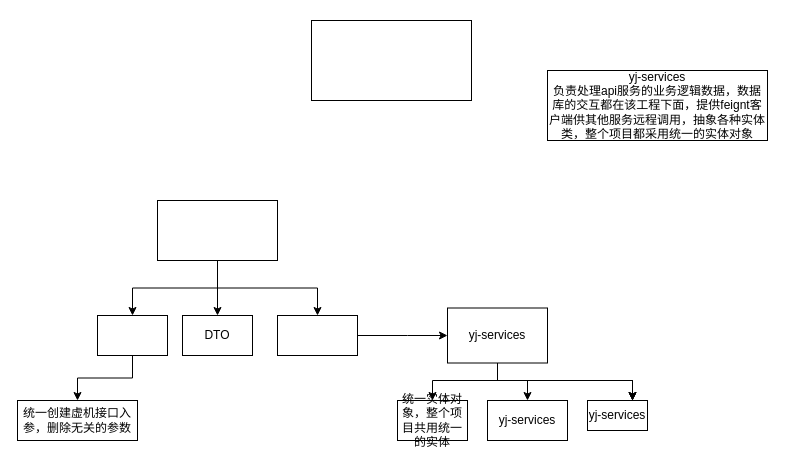
Image size: 785x467. Some labels were removed from this diagram. The shapes that lost their labels are listed below. From the top down, each one's box as (x1, y1, x2, y2) in pixels, then its label:
(310, 20, 472, 100): yj-api-server 提供所有与前端直接交互的rest接口以及各种DTO，涉及与数据库交互的地方采用feign的方式远程调用service的方法
(156, 200, 278, 260): yj-api-server
(96, 314, 168, 356): Controller
(276, 314, 358, 356): FeignClient远程调用
